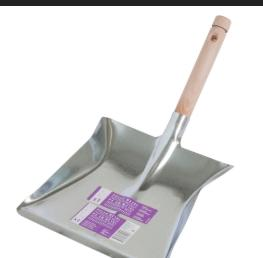PELLE: (3, 2, 252, 258)
